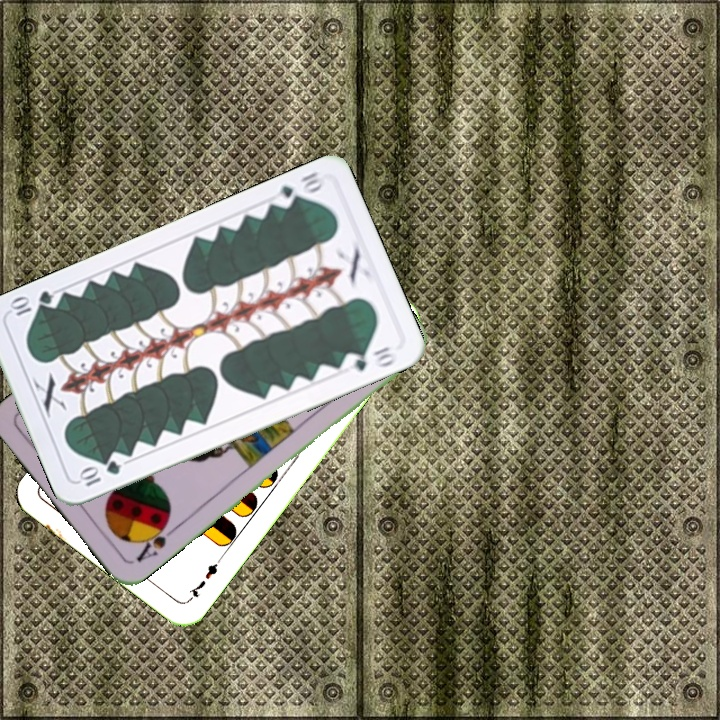E7: (183, 553, 225, 604)
G10: (273, 167, 326, 211), (75, 456, 124, 489)
SA: (132, 515, 180, 565)
